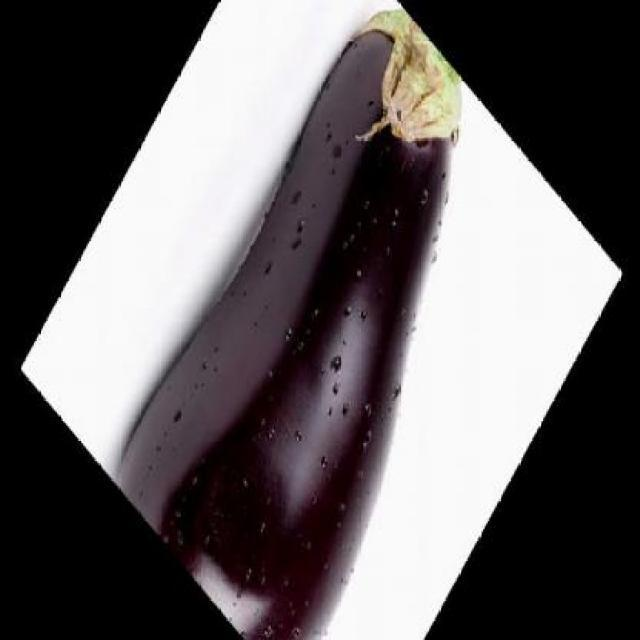eggplant: (107, 0, 564, 638)
